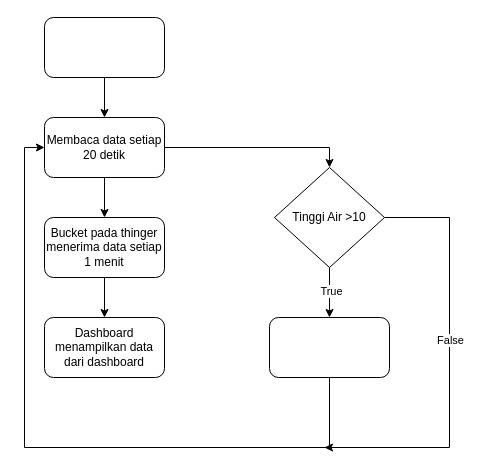
Image size: 481x473. Some labels were removed from this diagram. The centre of each missing label's shape, as x and y in pixels:
Buzzer menyala dan notifikasi telegram: point (329, 347)
Program terkoneksi dengan Wi-Fi & Thinger: point (104, 47)
